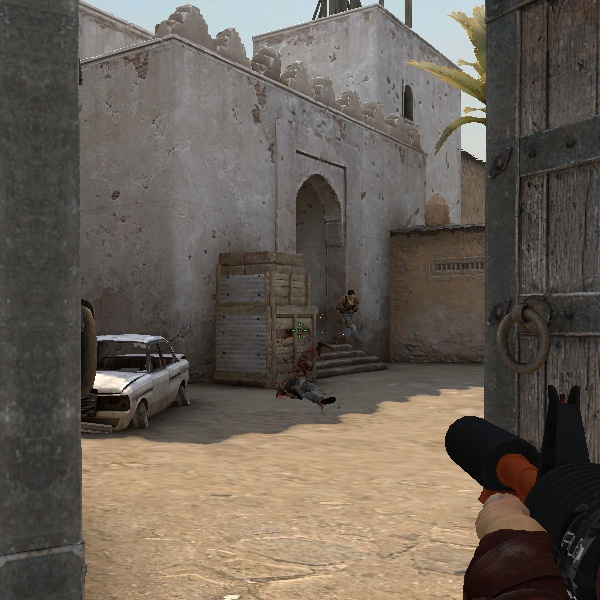t_body: (330, 285, 367, 351)
